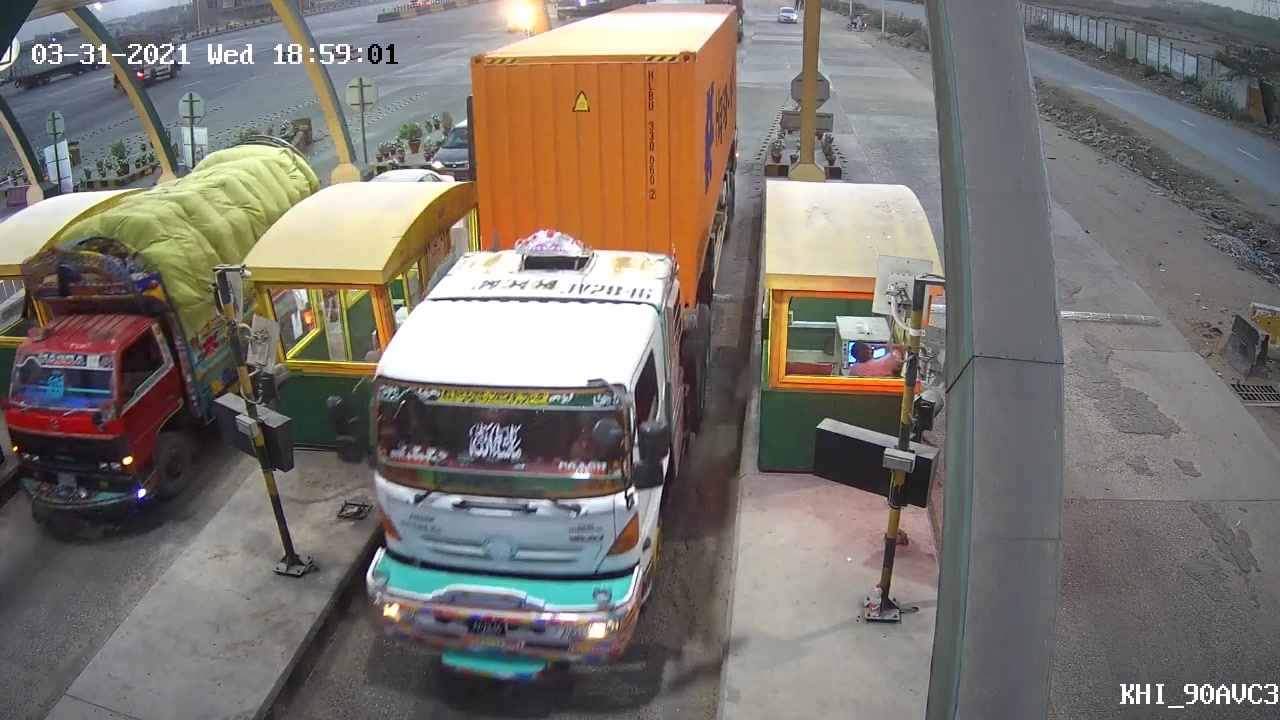F6: (351, 162, 731, 688)
